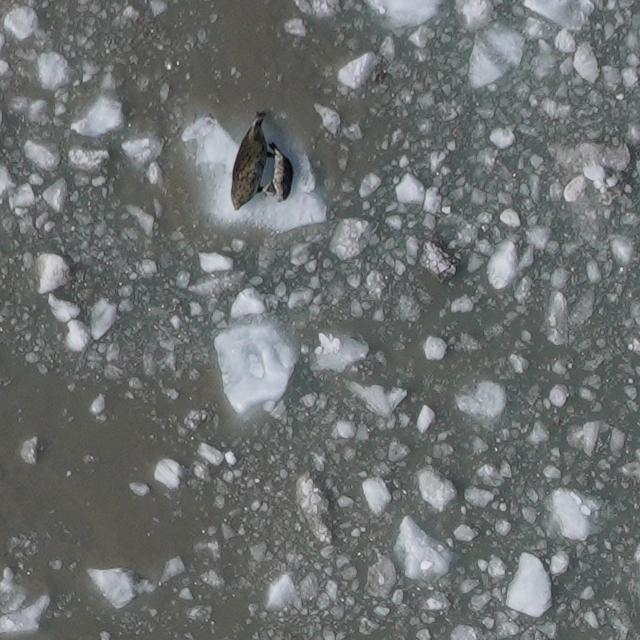seal: (221, 107, 285, 219), (259, 140, 299, 207)
